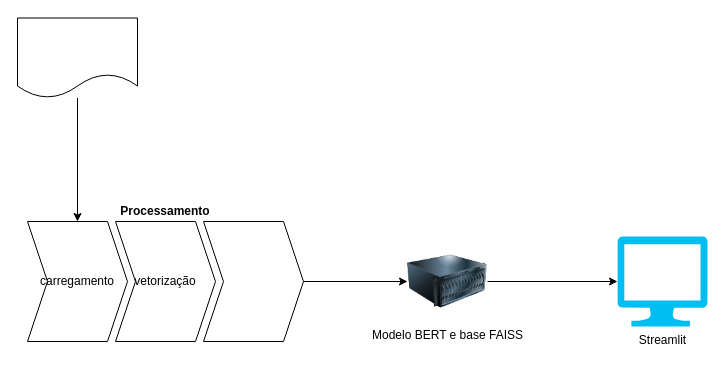
The diagram is 725 pixels wide and 368 high, and some of its shapes have lost their labels. Here are the shapes that lost their labels. From the top down, the centre of each, then its label:
At (77,57): "Entrada JSON - Parquet - YAML".
At (253,281): "consultas".
